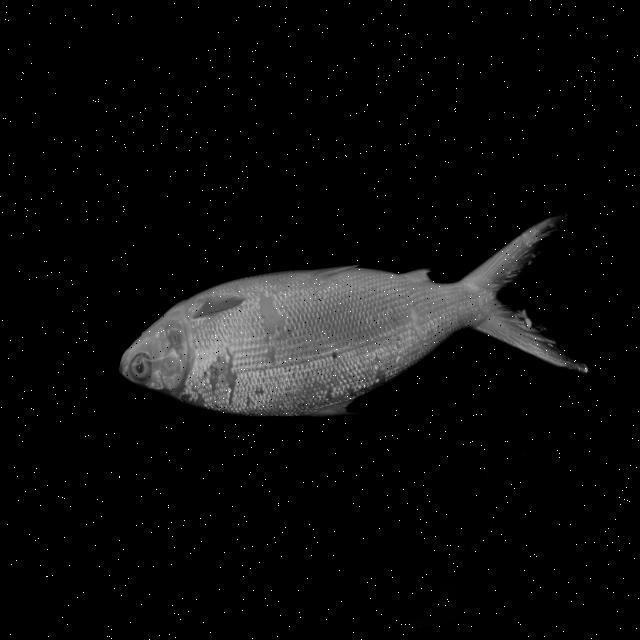855 g: (106, 214, 592, 451)
